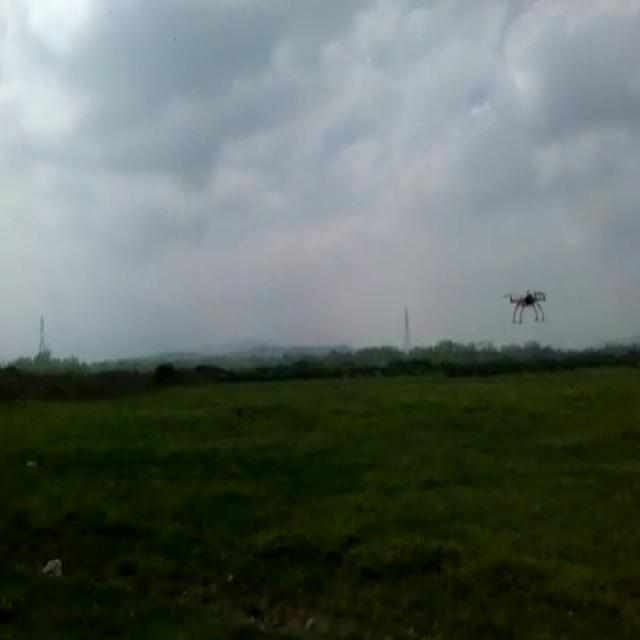drone: (502, 282, 548, 324)
